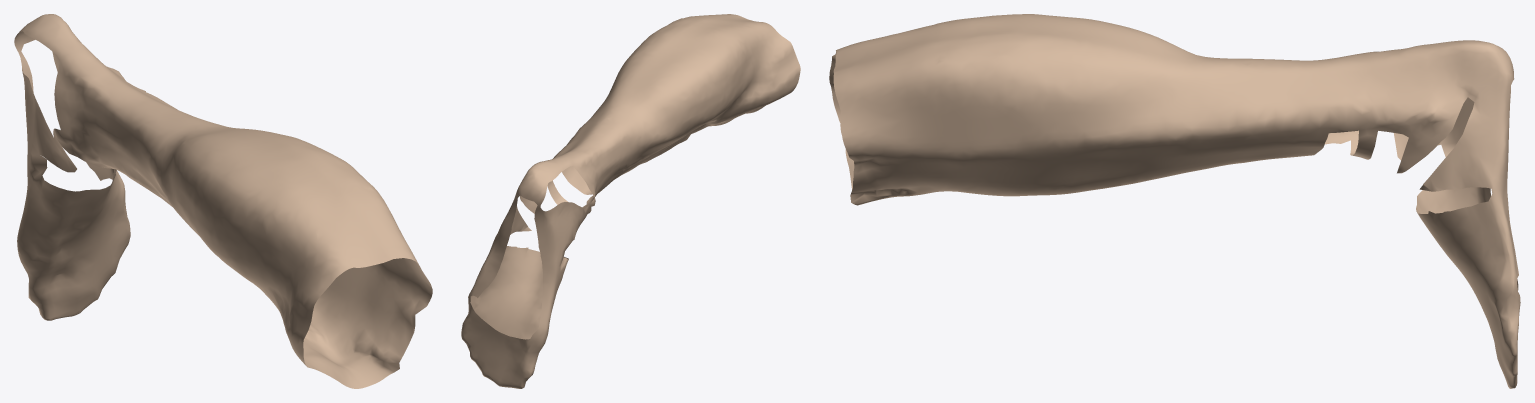
The picture shows the model from 3 angles, left to right: view 1: azimuth 30°, elevation 25°; view 2: azimuth 150°, elevation 25°; view 3: azimuth 270°, elevation 25°; orthographic projection. The views are drawn at different scales.
Visible parts, largest first — view 1: 左侧小腿筋膜; view 2: 左侧小腿筋膜; view 3: 左侧小腿筋膜.
Boxes of the visible parts, box(x1,y1,x2,y2) form: 左侧小腿筋膜: box(14, 14, 432, 388); 左侧小腿筋膜: box(461, 14, 800, 388); 左侧小腿筋膜: box(829, 14, 1520, 388).
Bounding box in the file's own units: 0.1782 × 0.3603 × 0.6512.
